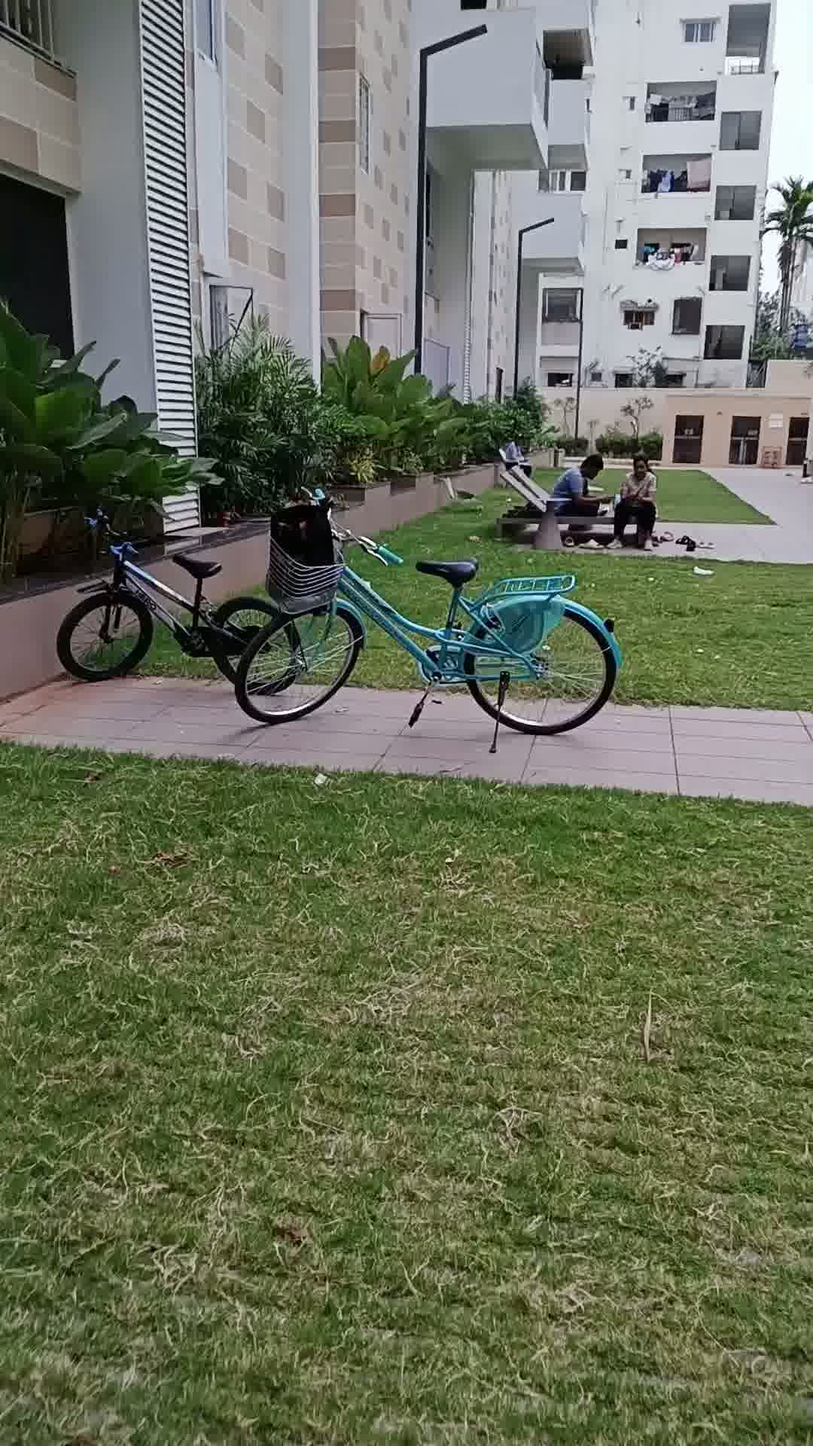bicycle: (245, 461, 637, 763), (60, 487, 313, 717)
person: (552, 438, 611, 552), (618, 434, 661, 555)
tree: (760, 165, 811, 368)
